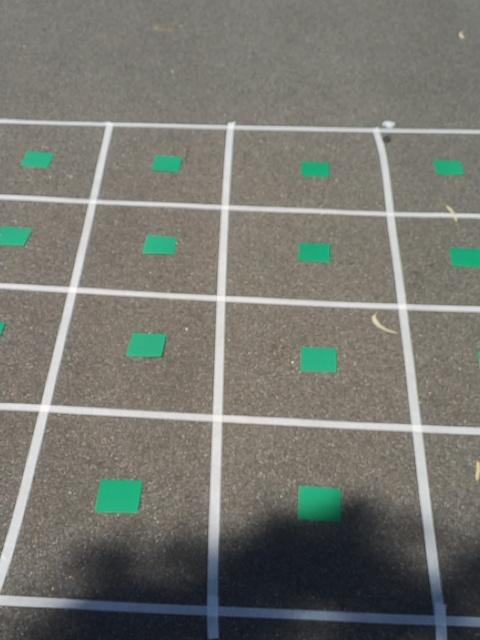weed: (295, 484, 345, 524), (93, 478, 143, 515), (125, 332, 169, 358), (300, 345, 338, 374), (297, 240, 332, 265), (142, 235, 178, 256), (0, 227, 34, 249), (451, 244, 480, 269), (20, 149, 55, 168), (300, 159, 330, 180), (151, 153, 184, 171), (433, 158, 464, 177)
